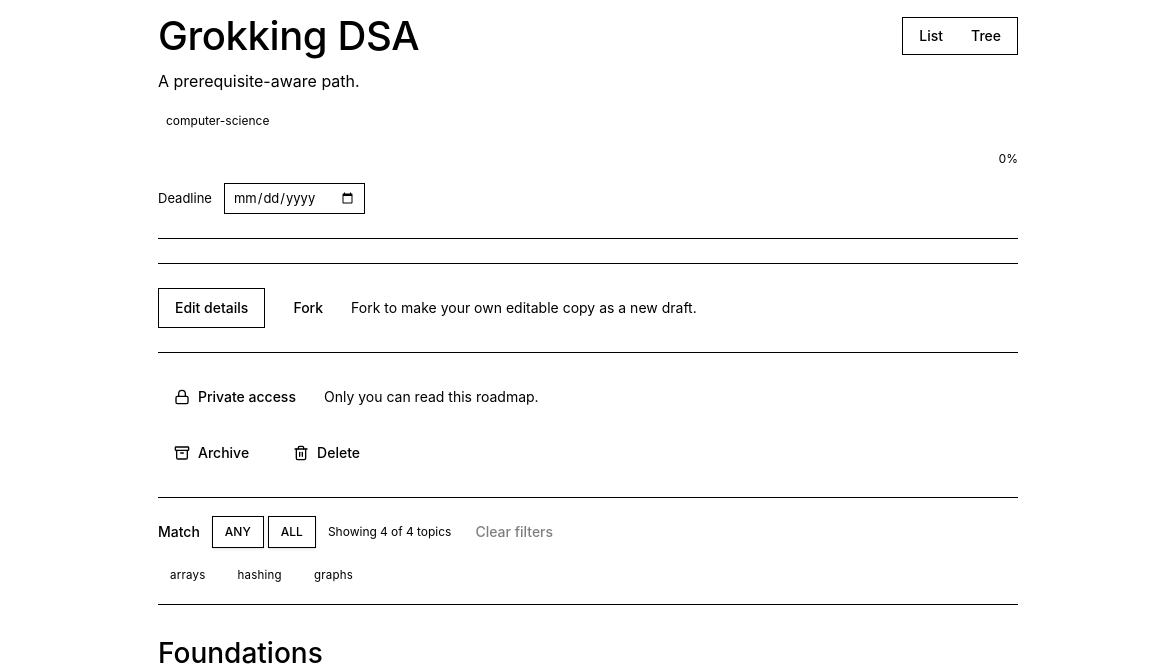
Scenario: RoadmapView list view (tags, filter chips, next highlight) › shows a no-results state and clear restores topics while preserving ALL
This screenshot has width=1164, height=670.
Step 1. Click the button "arrays" → click(188, 575), box left=158, top=562, right=218, bottom=588
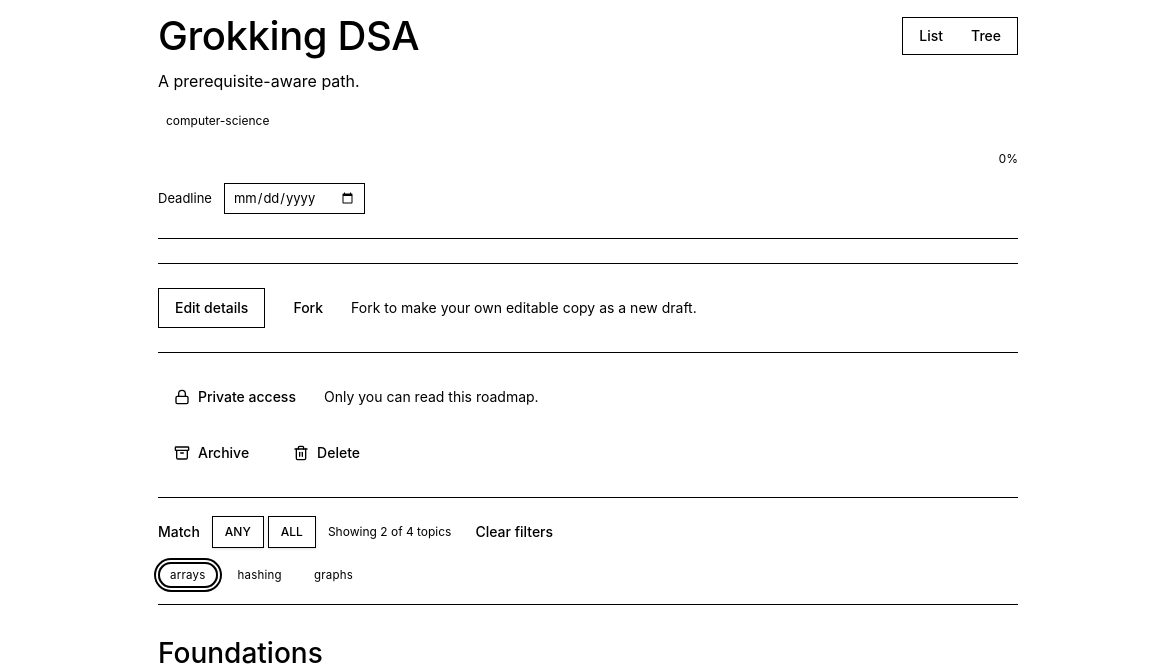
Step 2. Click the button "graphs" → click(333, 575), box left=302, top=562, right=365, bottom=588
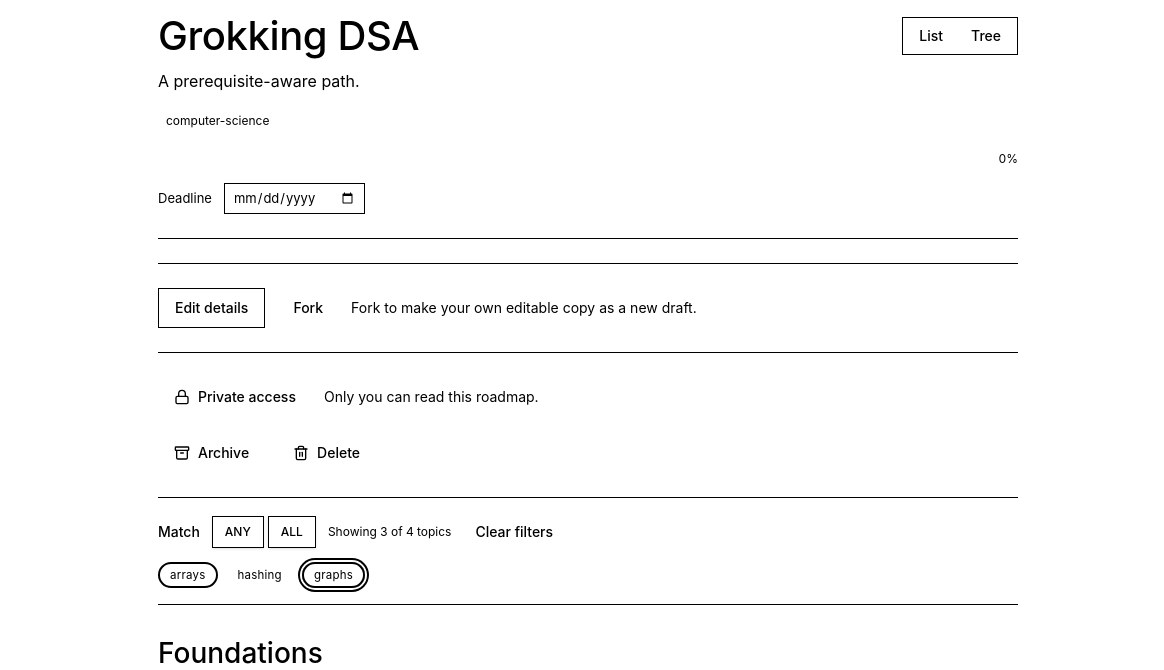
Step 3. Click the radio button labelled "ALL" → click(292, 532), box left=268, top=516, right=316, bottom=548
(page scrolled)
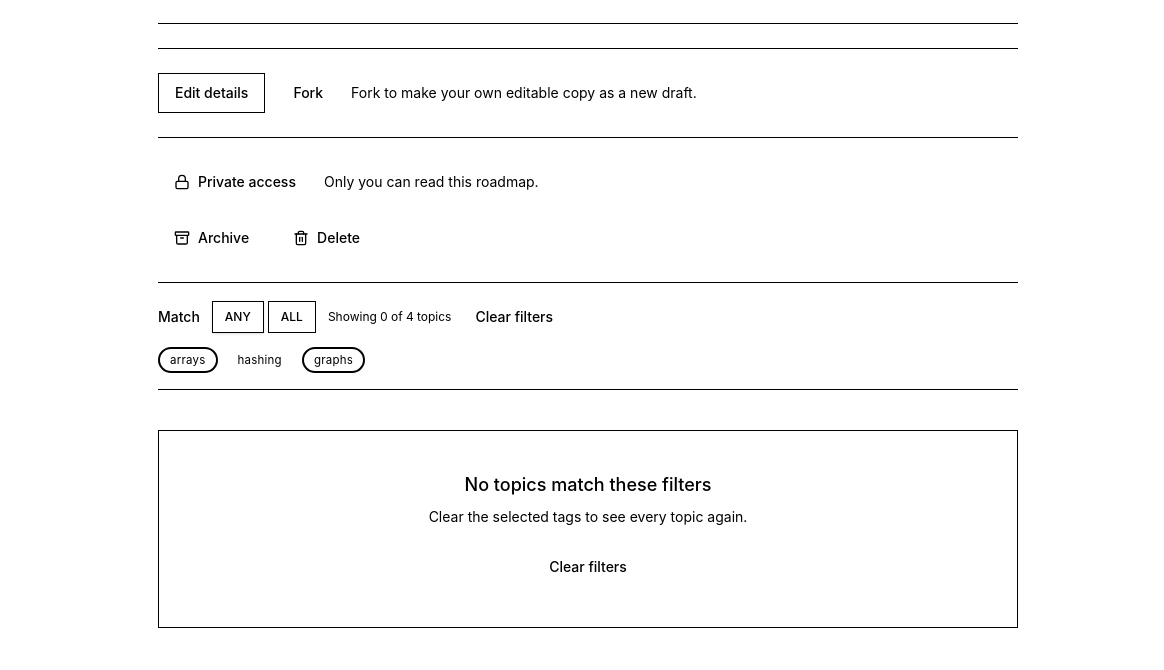
Expected: the text "Showing 0 of 4 topics" is shown, left=328, top=309, right=451, bottom=325
Expected: the heading "No topics match these filters" is shown, left=465, top=474, right=711, bottom=495
Expected: the button "Clear filters" below "No topics match these filters" is shown
Step 4. Click the button "Clear filters" below "No topics match these filters" → click(588, 567), box left=533, top=547, right=643, bottom=587
(page scrolled)
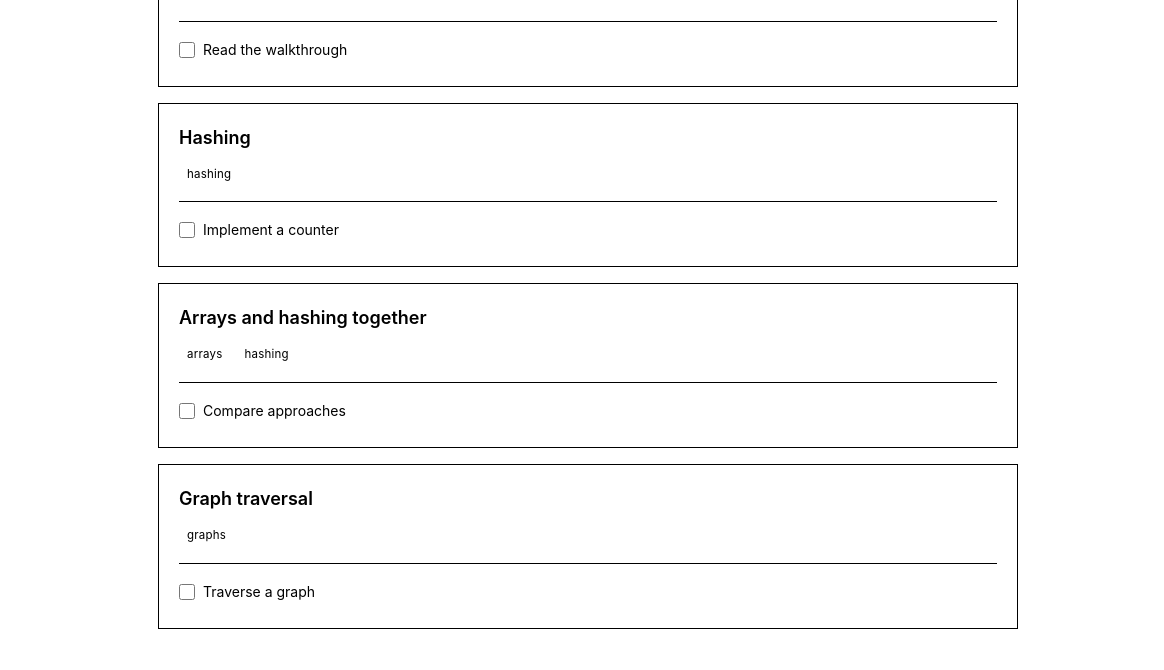
Expected: the heading "Graph traversal" is shown, left=179, top=485, right=313, bottom=513
